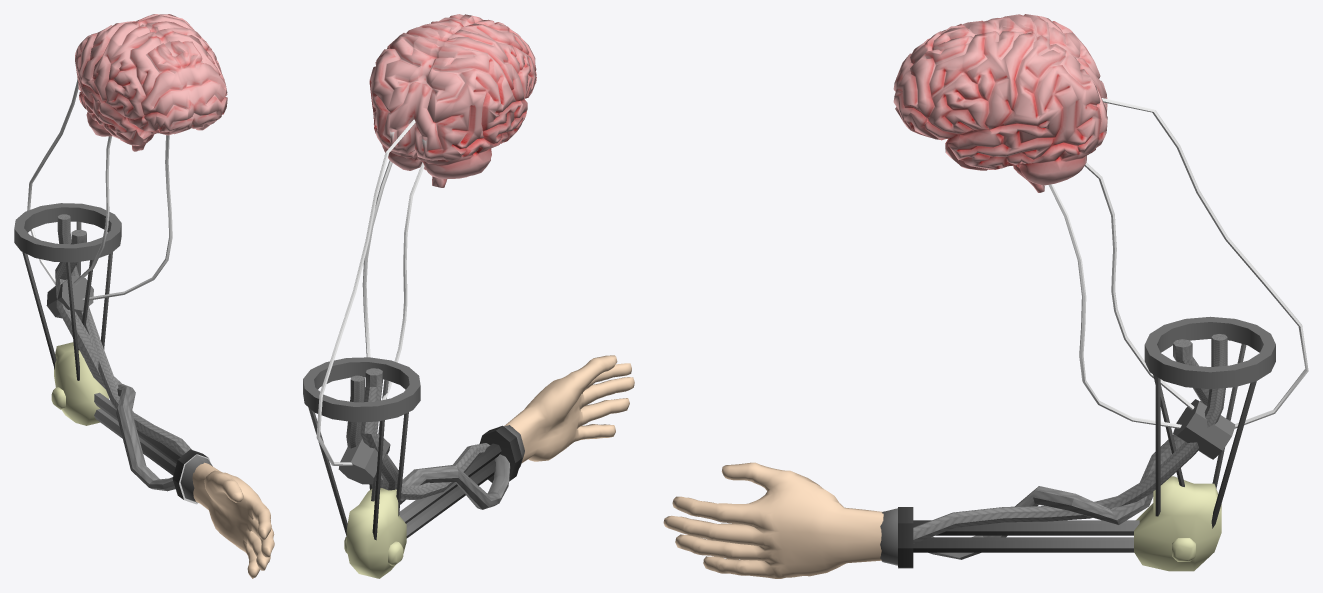
The model's file is bio_hand.dae.
3 views of the same model, side by side, from view 1: azimuth 30°, elevation 25°; view 2: azimuth 150°, elevation 25°; view 3: azimuth 270°, elevation 25° (orthographic). The views are drawn at different scales.
Parts seen in each view (by area): view 1: polySurface1; view 2: polySurface1; view 3: polySurface1.
Part boxes in pixels (x1,y1,x2,y2): polySurface1: (14, 14, 274, 578); polySurface1: (303, 14, 634, 578); polySurface1: (663, 14, 1308, 578).
Size of the model in its own units: 5.09 by 19.11 by 20.14.
1 material, 1 textured.
